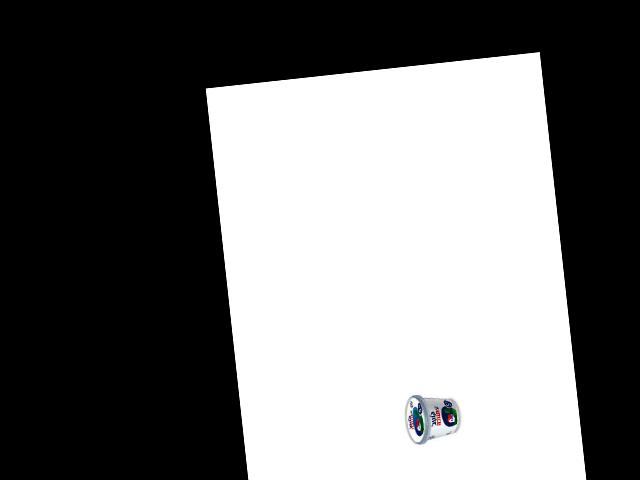cotage: (402, 392, 463, 447)
